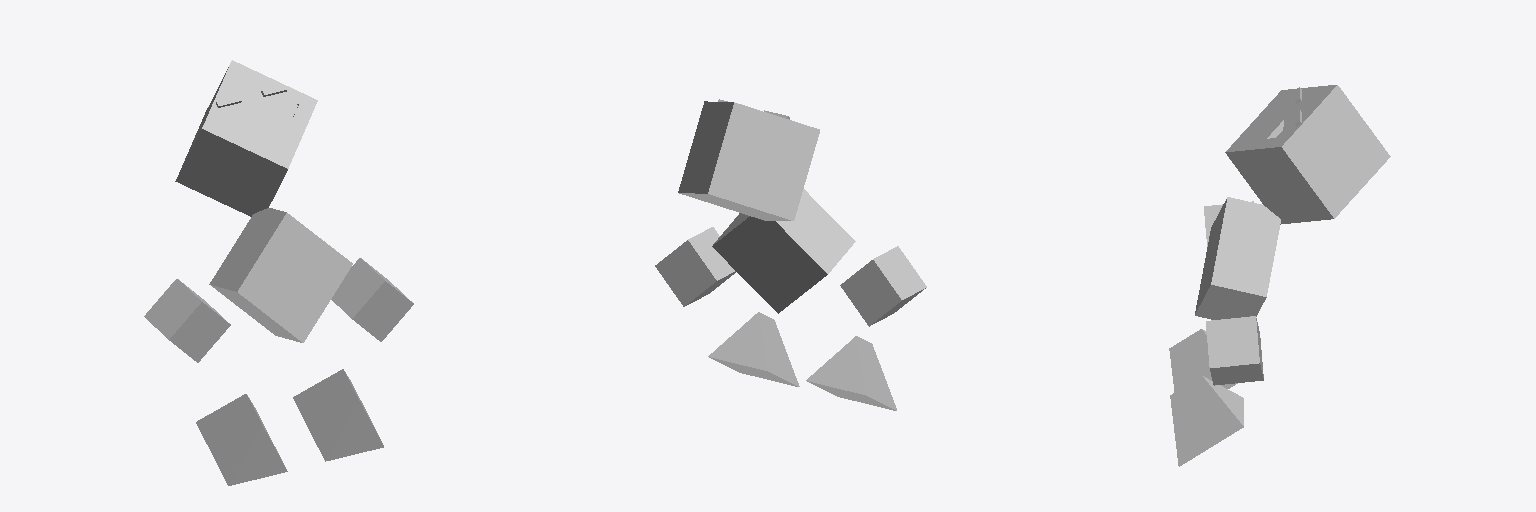
The model's file is CabecaEmpalada.obj.
The picture shows the model from 3 angles: view 1: azimuth 30°, elevation 25°; view 2: azimuth 150°, elevation 25°; view 3: azimuth 270°, elevation 25°; orthographic projection.
Visible parts, largest first — view 1: Corpo_Cube.006; view 2: Corpo_Cube.006; view 3: Corpo_Cube.006.
Part boxes in pixels (x1,y1,x2,y2): Corpo_Cube.006: (144, 60, 413, 485); Corpo_Cube.006: (655, 99, 926, 410); Corpo_Cube.006: (1169, 85, 1390, 466).
Size of the model in its own units: 2.78 by 3.74 by 2.16.